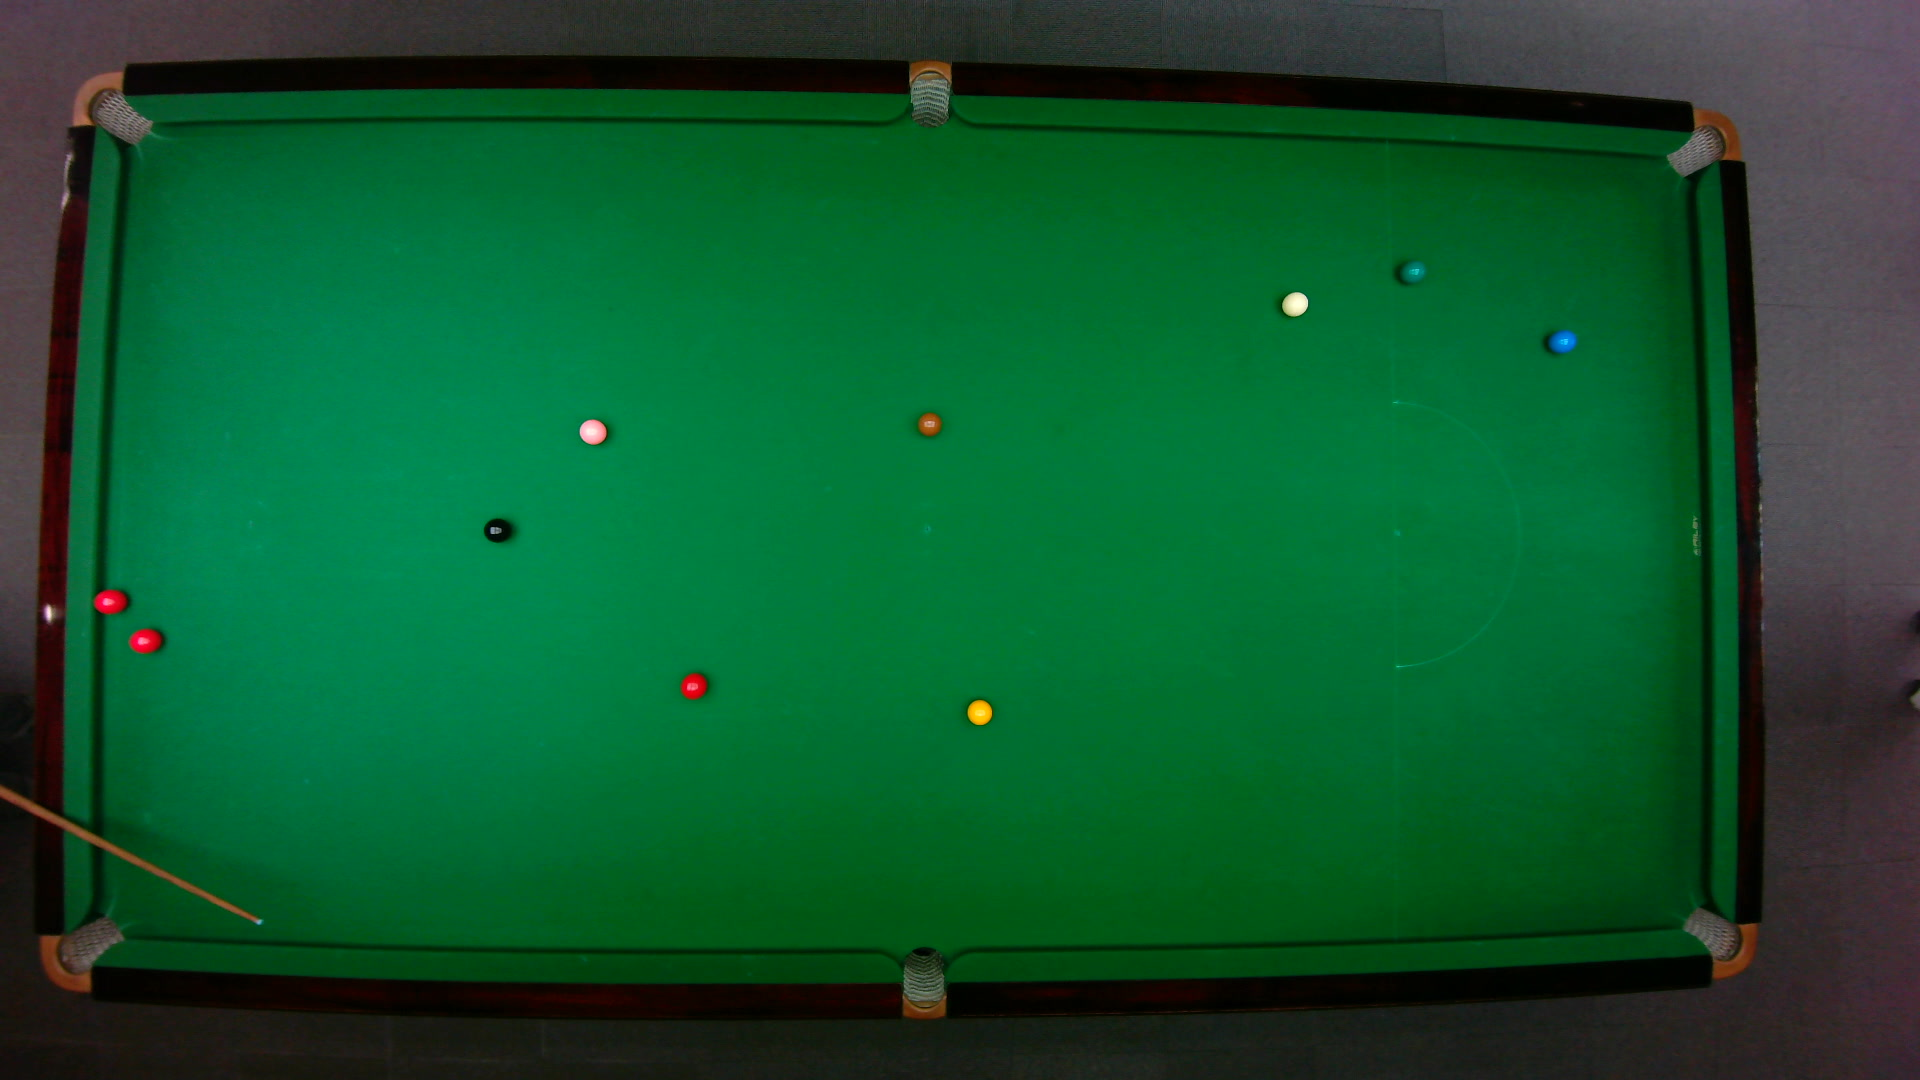bag: (37, 914, 125, 992), (69, 69, 153, 145), (1679, 905, 1756, 978), (1663, 107, 1741, 178), (901, 944, 944, 1021), (909, 57, 949, 128)
black: (483, 516, 512, 542)
blue: (1545, 327, 1577, 353)
brown: (915, 410, 942, 436)
cue: (0, 782, 266, 928)
green: (1396, 258, 1427, 284)
pink: (576, 415, 608, 446)
red: (91, 587, 128, 615), (127, 626, 164, 653), (678, 671, 707, 700)
white: (1279, 289, 1309, 316)
yellow: (964, 696, 993, 727)
zone: (1390, 398, 1520, 669)
